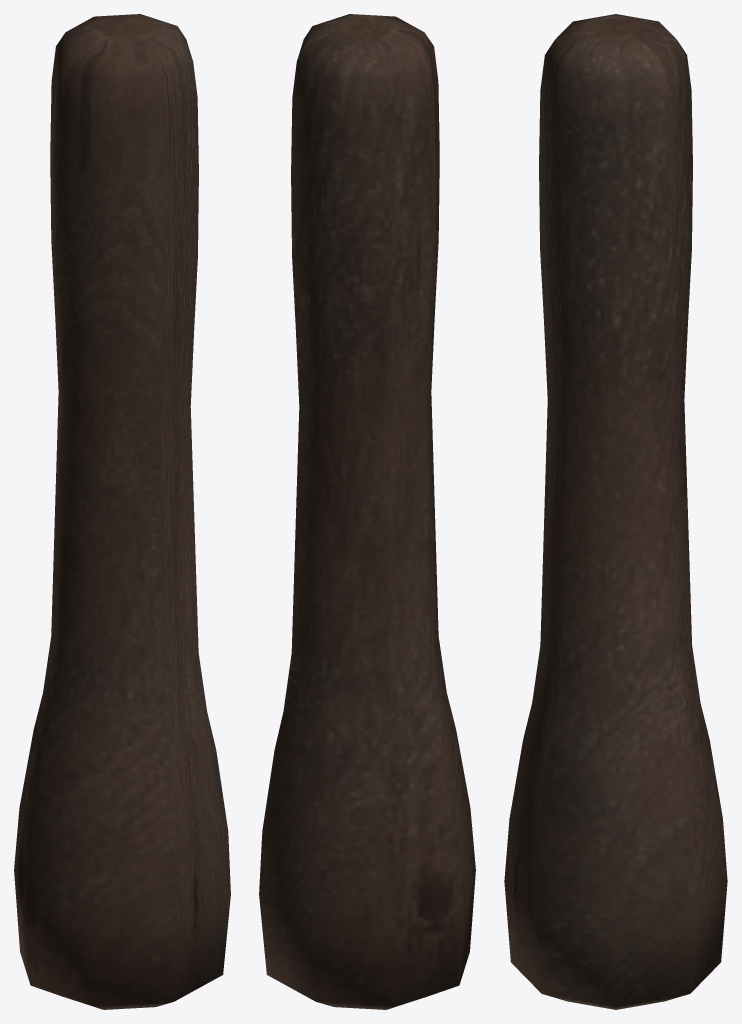
File: SM_WoodBowls_Hammer.fbx
3 views of the same model, side by side, from view 1: azimuth 30°, elevation 25°; view 2: azimuth 150°, elevation 25°; view 3: azimuth 270°, elevation 25° (orthographic).
Parts seen in each view (by area): view 1: SM_WoodBowls_Hammer_LOD0; view 2: SM_WoodBowls_Hammer_LOD0; view 3: SM_WoodBowls_Hammer_LOD0.
Boxes of the visible parts, box(x1,y1,x2,y2) form: SM_WoodBowls_Hammer_LOD0: box(14, 14, 230, 1009); SM_WoodBowls_Hammer_LOD0: box(259, 14, 475, 1009); SM_WoodBowls_Hammer_LOD0: box(504, 14, 727, 1009).
Size of the model in its own units: 5.77 by 5.72 by 26.99.
